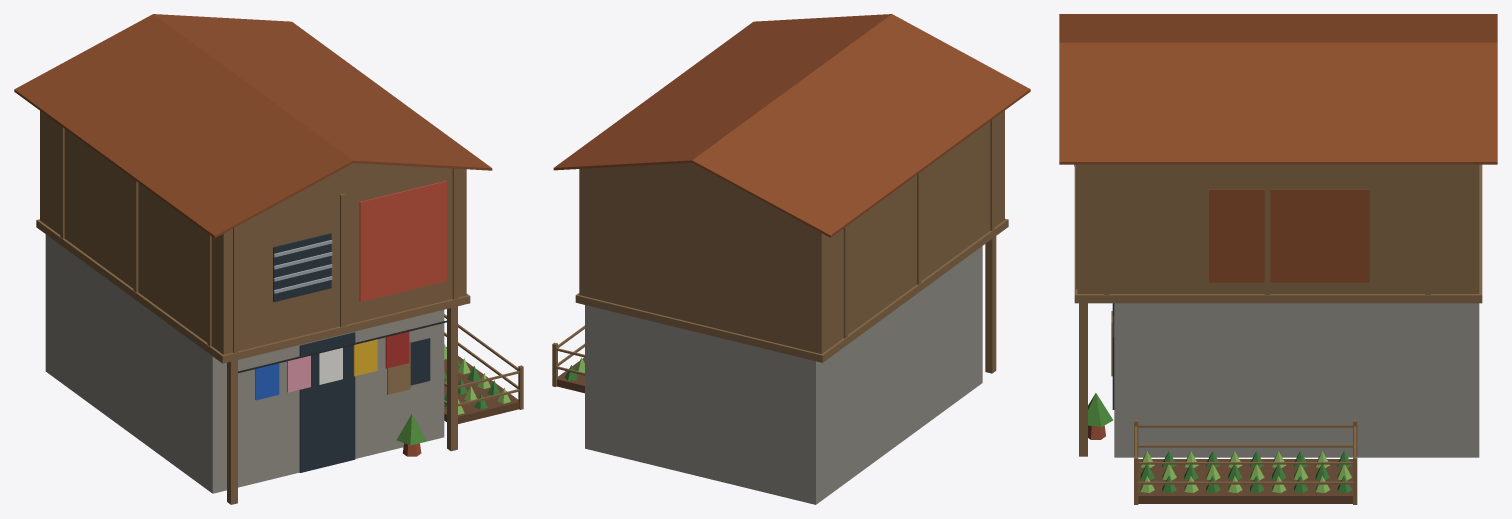
The model's file is BAY_I_Shanty2F_R.glb.
3 renders of one model, left to right at view 1: azimuth 30°, elevation 25°; view 2: azimuth 150°, elevation 25°; view 3: azimuth 270°, elevation 25°, orthographic. The views are drawn at different scales.
Parts seen in each view (by area): view 1: BAY_I_Shanty2F_R; view 2: BAY_I_Shanty2F_R; view 3: BAY_I_Shanty2F_R.
Boxes of the visible parts, x1,y1,x2,y2 form: BAY_I_Shanty2F_R: (14,14,523,504); BAY_I_Shanty2F_R: (552,14,1030,504); BAY_I_Shanty2F_R: (1059,14,1497,504).
Size of the model in its own units: 5.93 by 5.34 by 6.
Materials: 1 (1 with a texture image).
